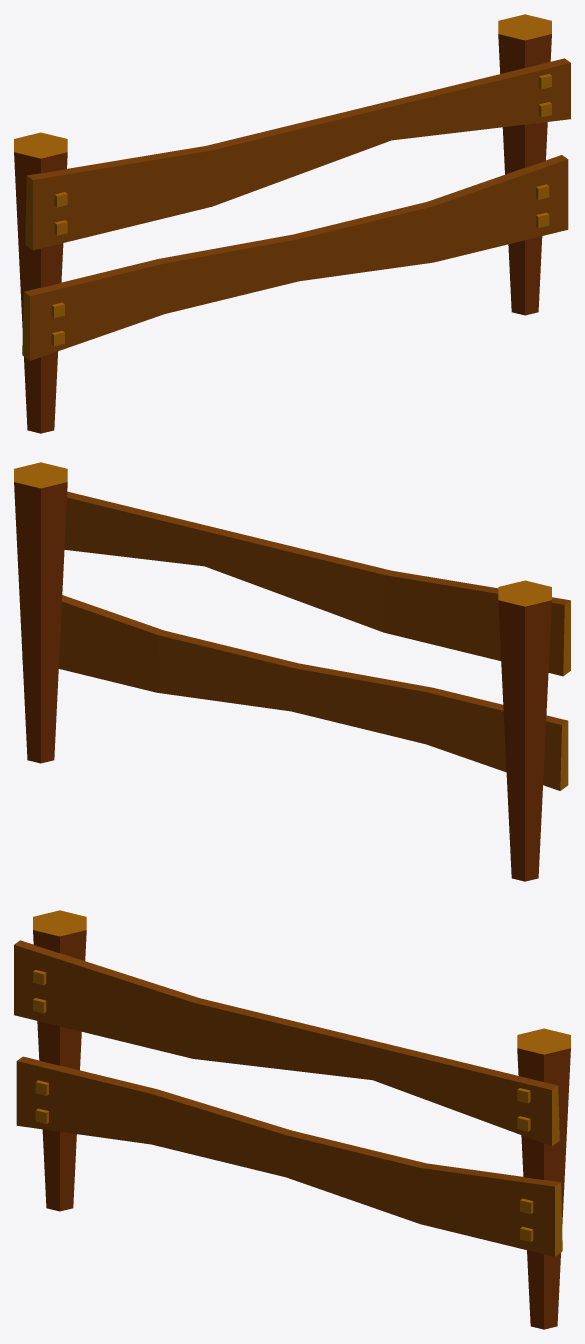
The model's file is Fence1.fbx.
The picture shows the model from 3 angles, top to bottom: view 1: azimuth 30°, elevation 25°; view 2: azimuth 150°, elevation 25°; view 3: azimuth 330°, elevation 25°; orthographic projection.
Parts seen in each view (by area): view 1: Fence_1; view 2: Fence_1; view 3: Fence_1.
Boxes of the visible parts, x1,y1,x2,y2 form: Fence_1: (14,14,570,433); Fence_1: (14,462,570,881); Fence_1: (14,910,570,1329).
Bounding box in the file's own units: 40 × 20 × 4.49.
Materials: 1 (1 with a texture image).
